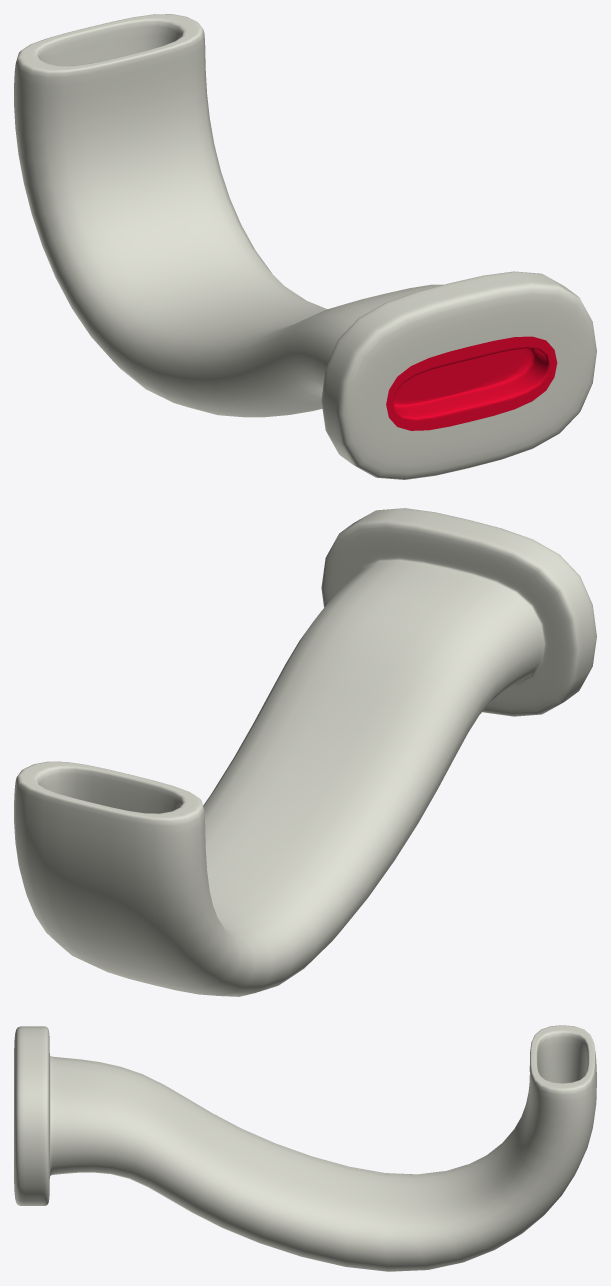
Rendered from tuboguedel.fbx.
3 views of the same model, one above another, from view 1: azimuth 30°, elevation 25°; view 2: azimuth 150°, elevation 25°; view 3: azimuth 270°, elevation 25° (orthographic). The views are drawn at different scales.
Parts seen in each view (by area): view 1: Cube; view 2: Cube; view 3: Cube.
Part boxes in pixels (x1,y1,x2,y2): Cube: [14, 14, 596, 479]; Cube: [14, 508, 596, 996]; Cube: [14, 1025, 596, 1271].
Size of the model in its own units: 3.91 by 3.84 by 10.07.
